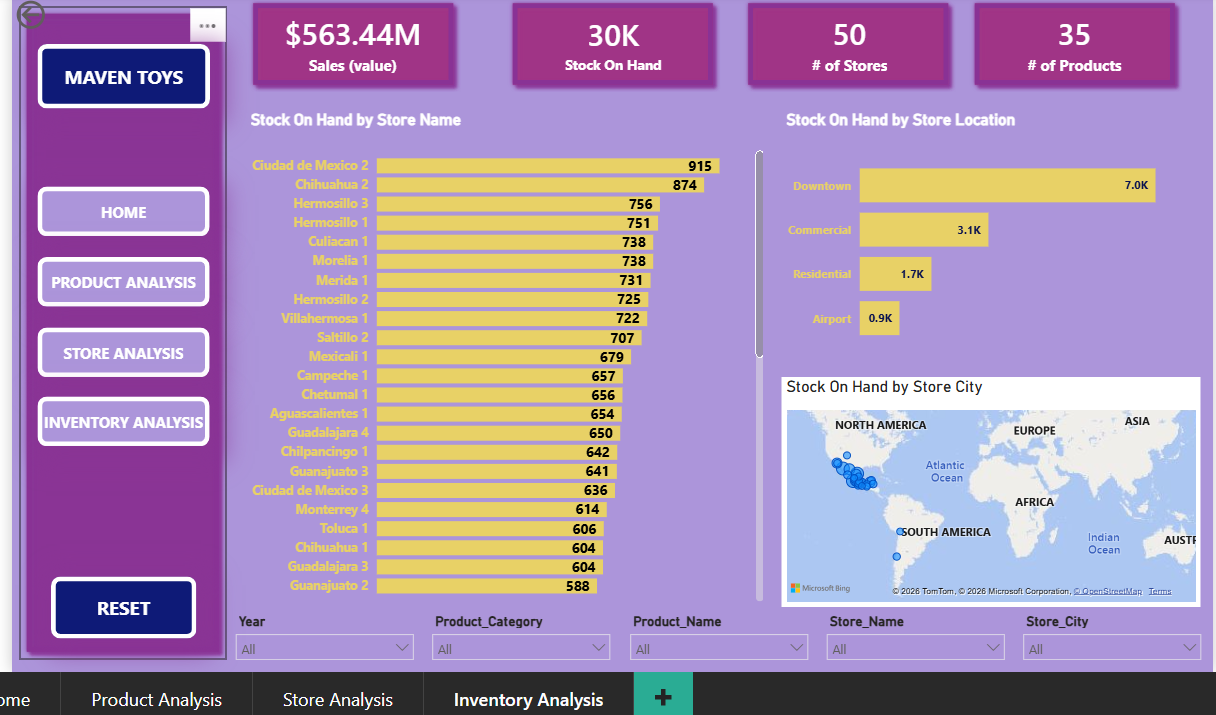

The dashboard page shown, as its layout file describes it:
{"tool":"powerbi","page":{"name":"Inventory Analysis","canvas":[1280,720],"ordinal":3},"visuals":[{"type":"shape","box":[249.2,0,228.5,102.3],"z":1000},{"type":"shape","box":[8,11,220,695],"z":2000},{"type":"shape","box":[27.1,202.2,183.3,52.9],"z":4000},{"type":"shape","box":[27.1,277.8,183.3,52.9],"z":5000},{"type":"shape","box":[27.1,353.4,183.3,52.9],"z":6000},{"type":"shape","box":[27.1,427.1,183.3,52.9],"z":7000},{"type":"shape","box":[41.6,618,155,66.1],"z":8000},{"type":"actionButton","box":[0,0,100,40],"z":10000},{"type":"slicer","title":"Sales by Month","fields":{"Values":["calendar.Date.Variation.Date Hierarchy.Year"]},"box":[228.5,651.8,209.3,68.7],"z":11000},{"type":"cardVisual","title":"Sales by Month","fields":{"Data":["sales.Sales (in value)"]},"box":[249.2,0,228.5,102.3],"z":12000},{"type":"shape","box":[776.5,0,228.5,102.3],"z":13000},{"type":"shape","box":[525.6,0,228.5,102.3],"z":14000},{"type":"shape","box":[1017.7,0,228.5,102.3],"z":15000},{"type":"cardVisual","fields":{"Data":["Sum(inventory.Stock_On_Hand)"]},"box":[540,4.8,201.3,91.1],"z":16000},{"type":"cardVisual","title":"Sales by Month","fields":{"Data":["Count(products.Product_ID)"]},"box":[1017.7,0,228.5,102.3],"z":17000},{"type":"cardVisual","title":"Sales by Month","fields":{"Data":["CountNonNull(stores.Store_ID)"]},"box":[778.1,0,228.5,102.3],"z":18000},{"type":"slicer","title":"Sales by Month","fields":{"Values":["products.Product_Category"]},"box":[437.8,651.8,209.3,68.7],"z":19000},{"type":"slicer","title":"Sales by Month","fields":{"Values":["products.Product_Name"]},"box":[648.7,651.8,209.3,68.7],"z":20000},{"type":"slicer","title":"Sales by Month","fields":{"Values":["stores.Store_City"]},"box":[1067.2,651.8,209.3,68.7],"z":21000},{"type":"slicer","title":"Sales by Month","fields":{"Values":["stores.Store_Name"]},"box":[857.9,651.8,209.3,68.7],"z":22000},{"type":"shape","box":[27.2,51.1,183.7,68.7],"z":23000},{"type":"barChart","fields":{"Y":["Sum(inventory.Stock_On_Hand)"],"Category":["stores.Store_Location"]},"box":[819.6,121.4,445.7,265.2],"z":24000},{"type":"barChart","fields":{"Y":["Sum(inventory.Stock_On_Hand)"],"Category":["stores.Store_Name"]},"box":[249.5,121.8,555.9,528.4],"z":25000},{"type":"map","fields":{"Category":["stores.Store_City"],"Size":["Sum(inventory.Stock_On_Hand)"]},"box":[819.6,405.8,445.7,244.4],"z":26000}]}

Visuals, with their boxes on the page's 1280x720 design canvas (x1, y1, x2, y2). These are canvas units, not pixel positions in the 1216x715 screenshot, which may show the page scaled, cropped or inside an application window:
shape: box(249, 0, 478, 102)
shape: box(8, 11, 228, 706)
shape: box(27, 202, 210, 255)
shape: box(27, 278, 210, 331)
shape: box(27, 353, 210, 406)
shape: box(27, 427, 210, 480)
shape: box(42, 618, 197, 684)
actionButton: box(0, 0, 100, 40)
"Sales by Month" slicer: box(228, 652, 438, 720)
"Sales by Month" cardVisual: box(249, 0, 478, 102)
shape: box(776, 0, 1005, 102)
shape: box(526, 0, 754, 102)
shape: box(1018, 0, 1246, 102)
cardVisual - Sum(inventory.Stock_On_Hand): box(540, 5, 741, 96)
"Sales by Month" cardVisual: box(1018, 0, 1246, 102)
"Sales by Month" cardVisual: box(778, 0, 1007, 102)
"Sales by Month" slicer: box(438, 652, 647, 720)
"Sales by Month" slicer: box(649, 652, 858, 720)
"Sales by Month" slicer: box(1067, 652, 1276, 720)
"Sales by Month" slicer: box(858, 652, 1067, 720)
shape: box(27, 51, 211, 120)
barChart - Sum(inventory.Stock_On_Hand) x stores.Store_Location: box(820, 121, 1265, 387)
barChart - Sum(inventory.Stock_On_Hand) x stores.Store_Name: box(250, 122, 805, 650)
map - stores.Store_City x Sum(inventory.Stock_On_Hand): box(820, 406, 1265, 650)
